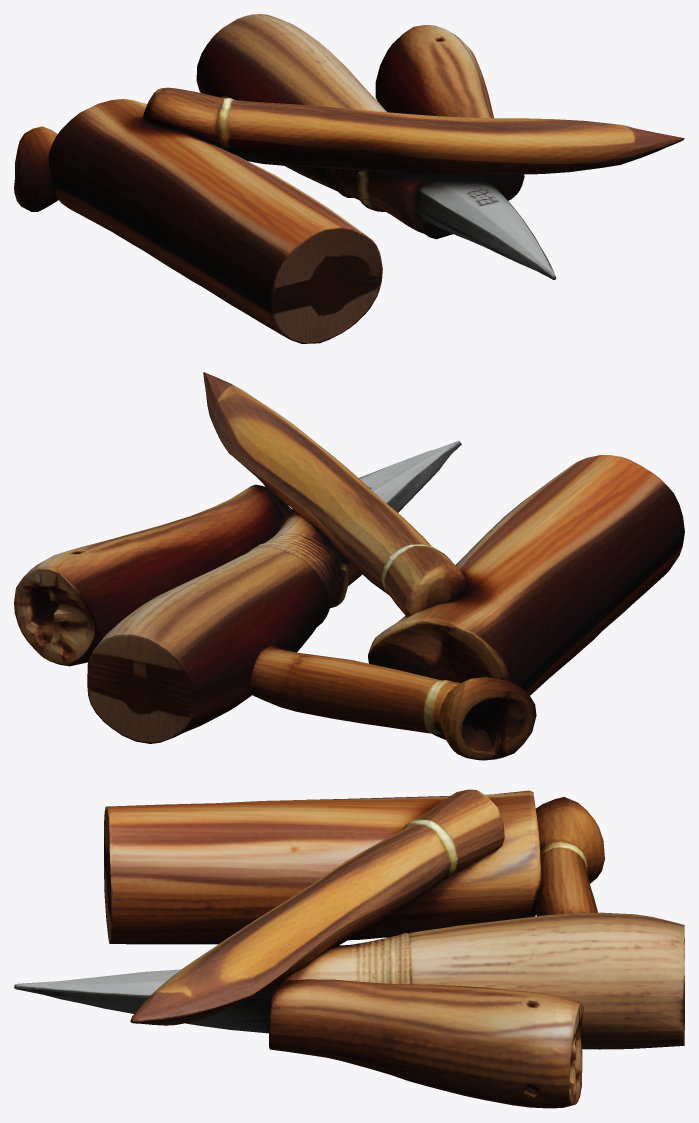
Rendered from wooden-mini-carving-set-rustic.jpeg.glb.
3 views of the same model, one above another, from view 1: azimuth 30°, elevation 25°; view 2: azimuth 150°, elevation 25°; view 3: azimuth 270°, elevation 25° (orthographic). The views are drawn at different scales.
Visible parts, largest first — view 1: world; view 2: world; view 3: world.
Part boxes in pixels (x1,y1,x2,y2): world: [14, 14, 684, 343]; world: [14, 372, 684, 760]; world: [14, 789, 684, 1108].
Bounding box in the file's own units: 0.9325 × 0.2616 × 0.9998.
Materials: 1 (1 with a texture image).
